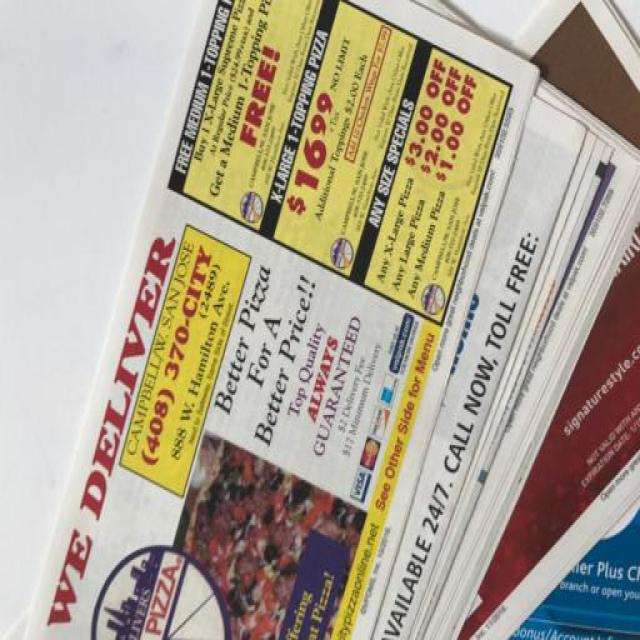paper: (26, 1, 640, 636)
